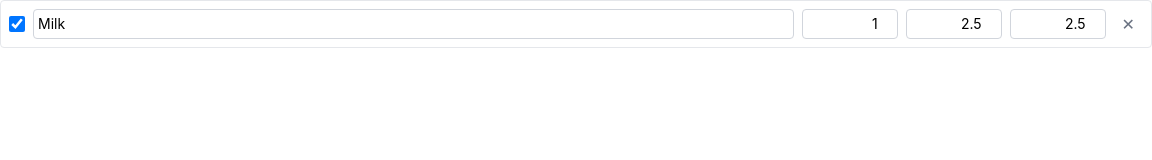
Test: LineItemRow › flags the line when the user unchecks the include checkbox
The image size is (1152, 160).
Note: When the user unchecks it
Click the checkbox. click: (17, 24)
box: [9, 16, 25, 32]
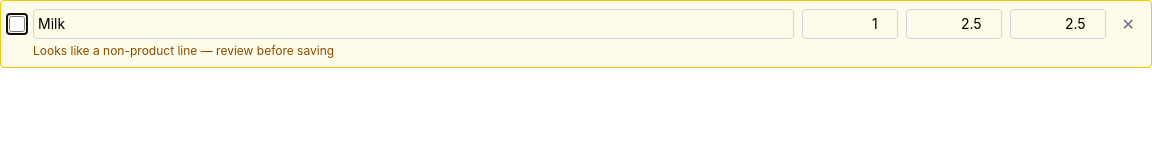
Expected: the text "Looks like a non-product line — review before saving" is shown, [33, 43, 334, 58]
